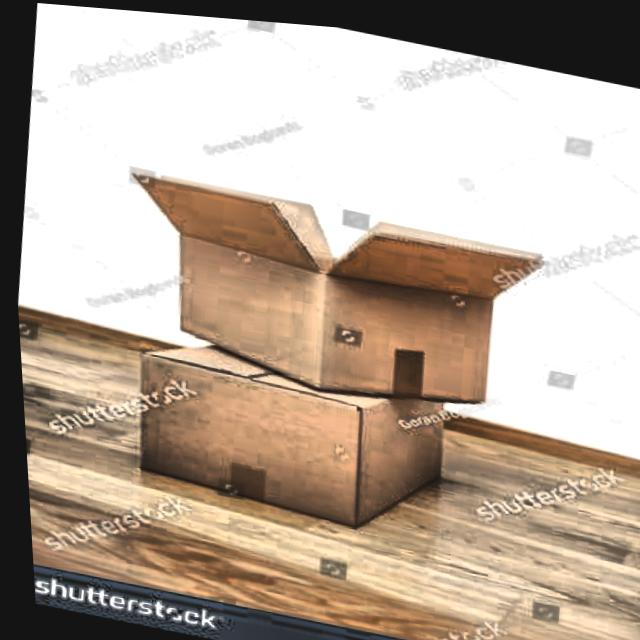Cardbox: (102, 167, 542, 430), (106, 313, 476, 543)
